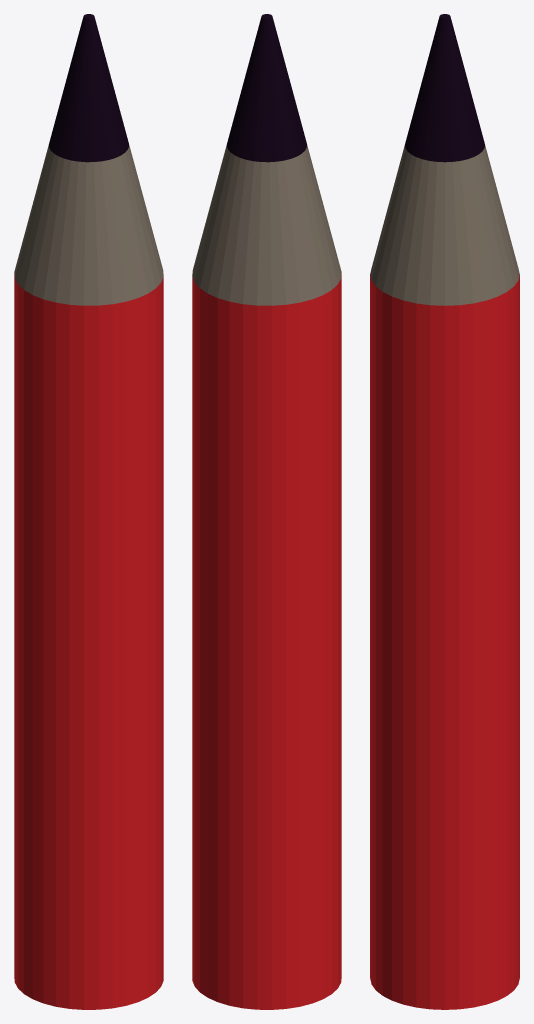
Rendered from stift poly.fbx.
3 renders of one model, left to right at view 1: azimuth 30°, elevation 25°; view 2: azimuth 150°, elevation 25°; view 3: azimuth 270°, elevation 25°, orthographic.
Visible parts, largest first — view 1: Cylinder; view 2: Cylinder; view 3: Cylinder.
Part boxes in pixels (<box>): Cylinder: <box>14,14,163,1009</box>; Cylinder: <box>192,14,341,1009</box>; Cylinder: <box>370,14,519,1009</box>.
Size of the model in its own units: 50.84 by 360 by 50.84.
